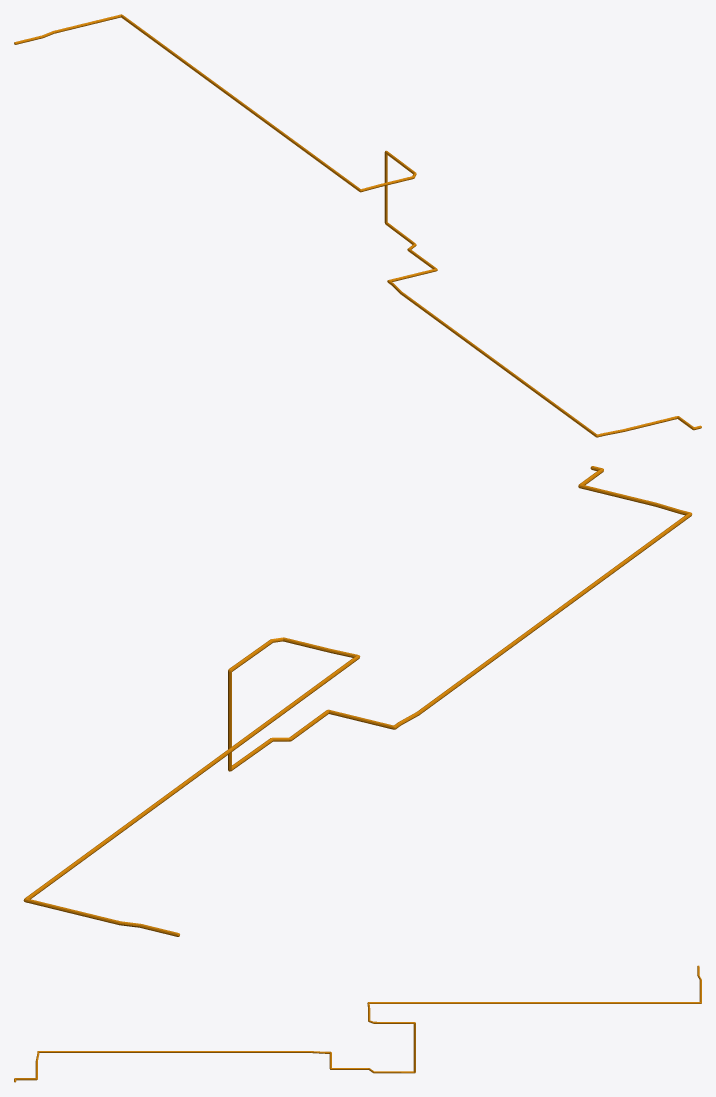
The picture shows the model from 3 angles, top to bottom: view 1: azimuth 30°, elevation 25°; view 2: azimuth 150°, elevation 25°; view 3: azimuth 270°, elevation 25°; orthographic projection. The views are drawn at different scales.
Size of the model in its own units: 1444 by 520 by 6313.
